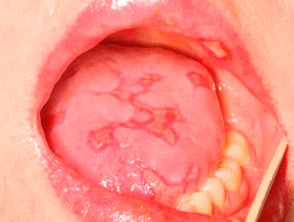SJS-TEN: (75, 54, 205, 184), (128, 156, 205, 220), (178, 63, 234, 101), (194, 36, 236, 69)
